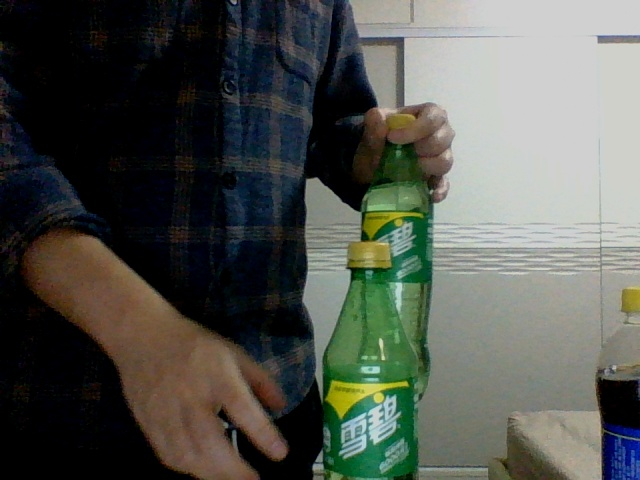Cola: (595, 287, 640, 477)
Sprite: (322, 240, 417, 479), (362, 114, 431, 398)
